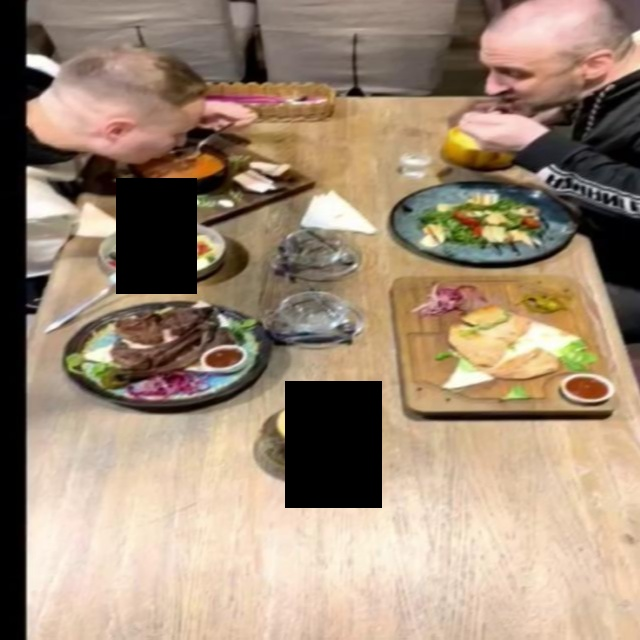meat: (387, 275, 620, 415), (60, 300, 273, 408)
salad: (392, 182, 580, 265), (95, 220, 225, 285)
soup: (89, 136, 316, 225), (414, 105, 533, 175)
tea: (244, 380, 385, 509)
